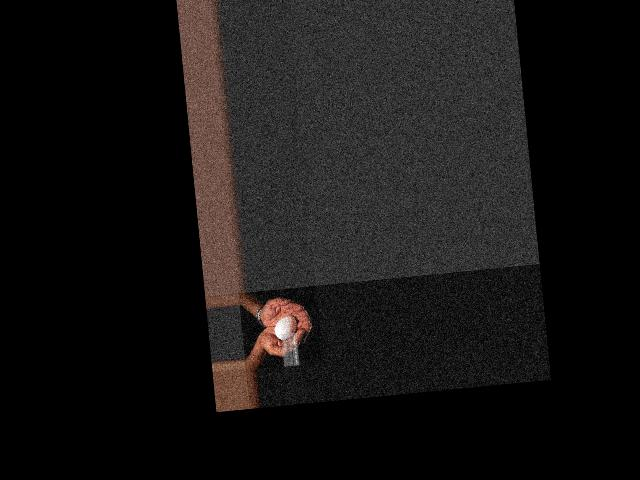egg: (273, 314, 298, 340)
